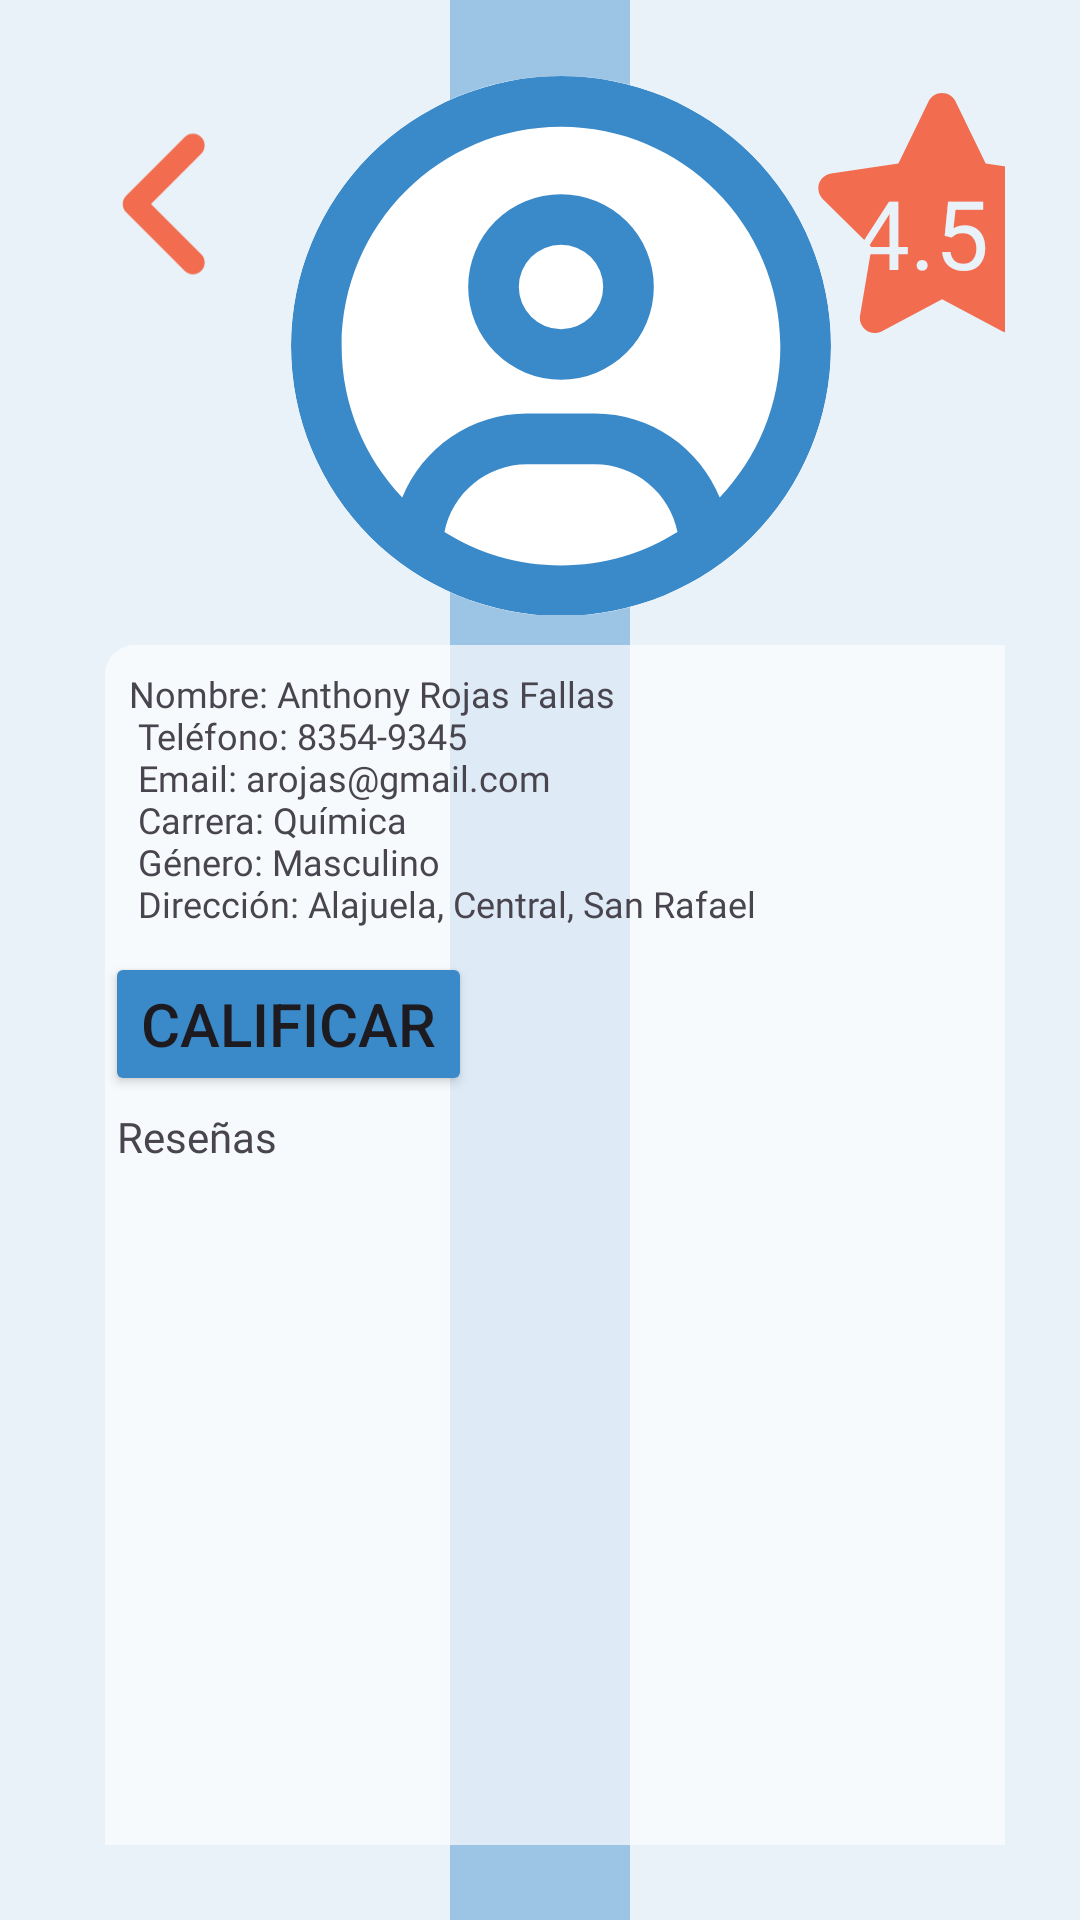

Icons on this 1080x1920 Android screen, each with the point to tap as (x,y):
boton de volver: (163,204)
Estrella calificación: (911,213)
